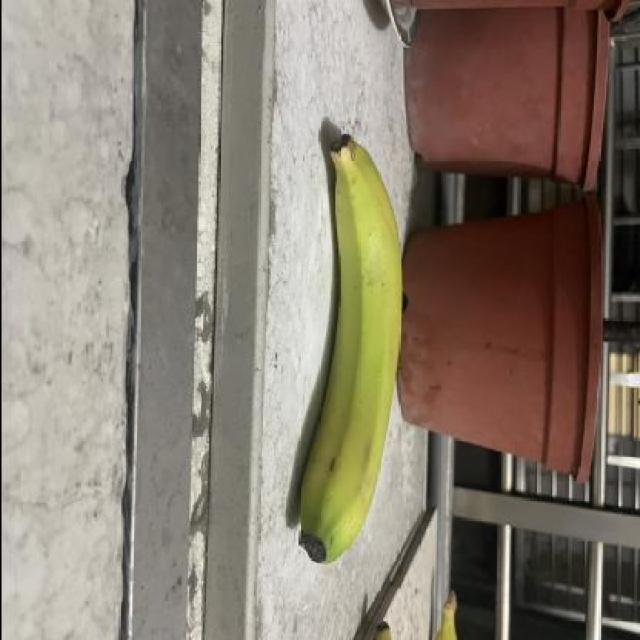Banana: (283, 121, 406, 570)
